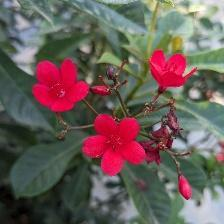jatropha: (84, 112, 147, 178), (31, 59, 91, 115), (151, 52, 194, 96)
